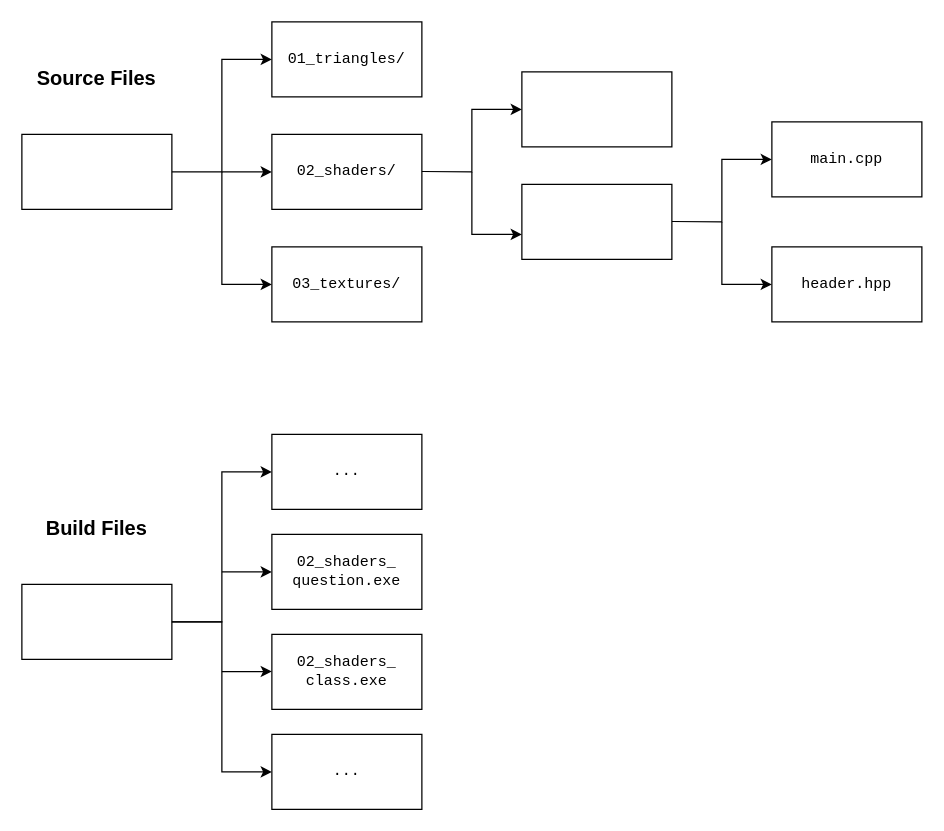
Some shapes in this 944 by 831 pixel diagram are drawn without their labels. Each missing label, with the centre of its shape:
./build/: pixel 96 621
./src/: pixel 96 171
class/: pixel 596 221
question/: pixel 596 109
